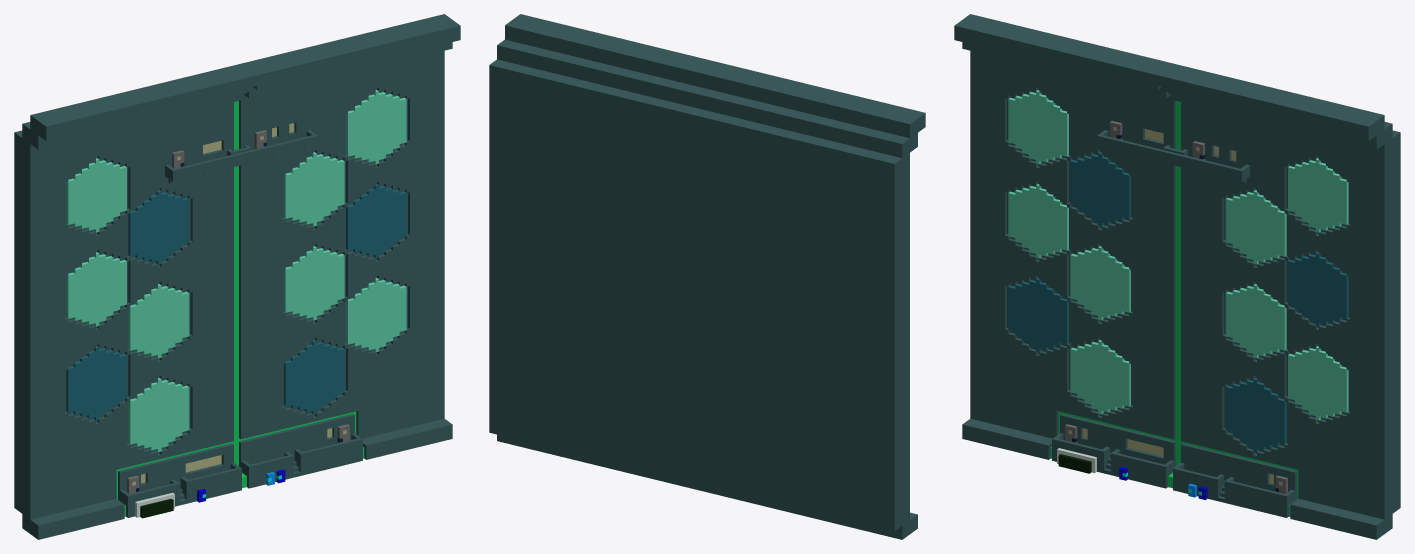
File: base_wall_corridor.obj
The picture shows the model from 3 angles, left to right: view 1: azimuth 30°, elevation 25°; view 2: azimuth 150°, elevation 25°; view 3: azimuth 330°, elevation 25°; orthographic projection. The views are drawn at different scales.
Parts seen in each view (by area): view 1: base_wall_corridor; view 2: base_wall_corridor; view 3: base_wall_corridor.
Boxes of the visible parts, x1,y1,x2,y2 form: base_wall_corridor: (14, 14, 460, 539); base_wall_corridor: (489, 14, 925, 539); base_wall_corridor: (954, 14, 1400, 539).
Size of the model in its own units: 120 by 116 by 16.
1 material, 1 textured.
